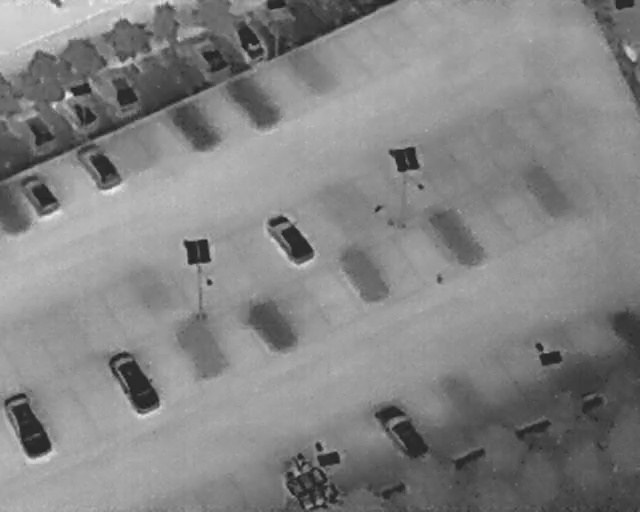Car: (102, 343, 167, 422), (368, 394, 436, 469), (0, 386, 58, 465), (259, 206, 321, 274), (69, 134, 128, 200), (93, 60, 150, 124), (221, 9, 275, 70), (183, 25, 237, 84), (12, 165, 65, 224), (55, 84, 105, 138), (12, 103, 60, 159), (263, 0, 296, 25)
